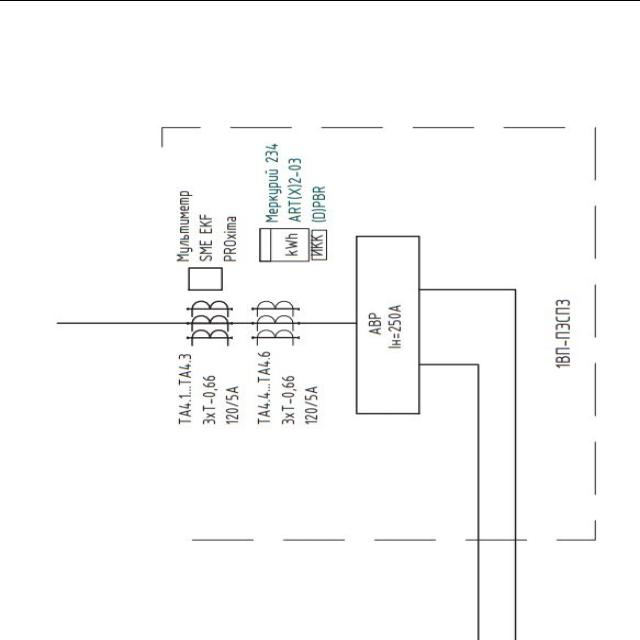-: (259, 139, 329, 225), (171, 186, 241, 264), (198, 371, 244, 428), (278, 372, 322, 428), (550, 294, 574, 370)
AVR: (353, 232, 422, 413)
PM: (186, 266, 223, 292)
TT: (183, 294, 240, 350), (248, 292, 304, 348)
WH: (256, 227, 310, 264)
